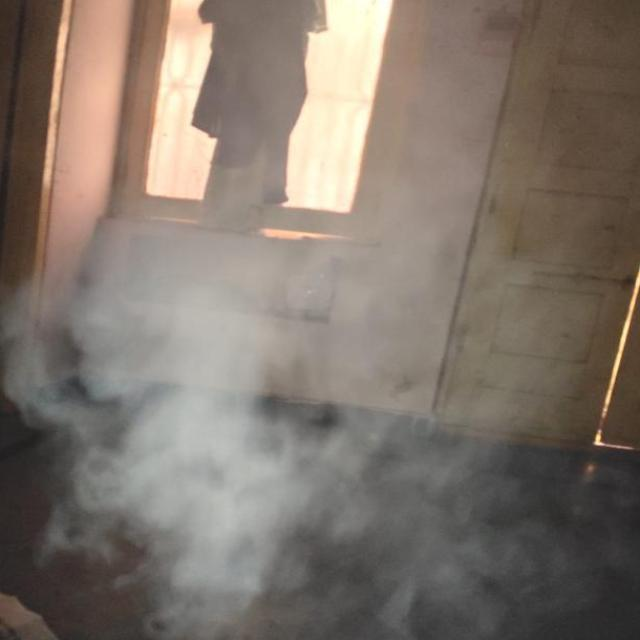fire: (42, 102, 571, 640)
